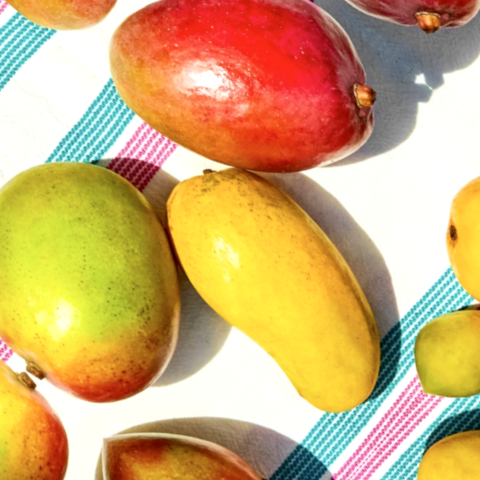mango: (100, 109, 458, 451), (66, 0, 455, 282), (0, 102, 286, 472)
